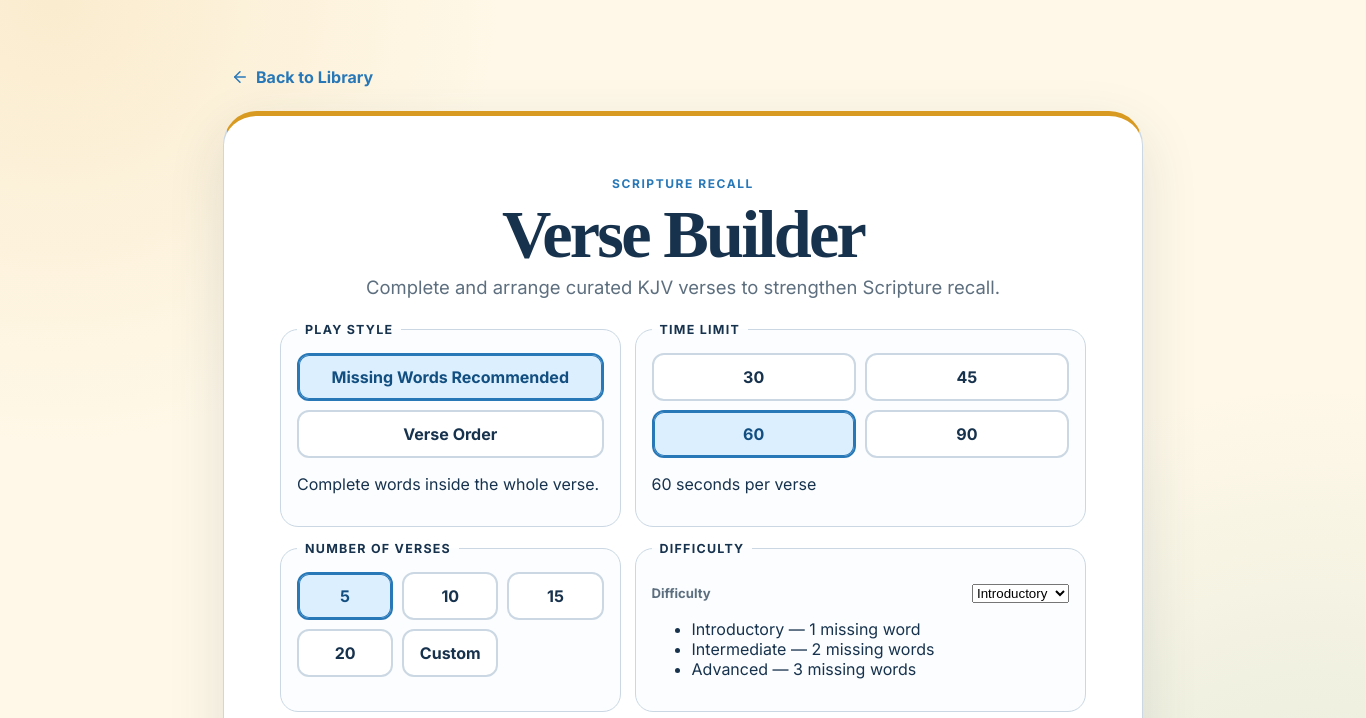
Scenario: Verse Builder Quick Play › switches to Verse Order without corrupting style-specific difficulty
The width and height of the screenshot is (1366, 718).
Click the button "Verse Order": point(450, 434) [297,410,604,458]
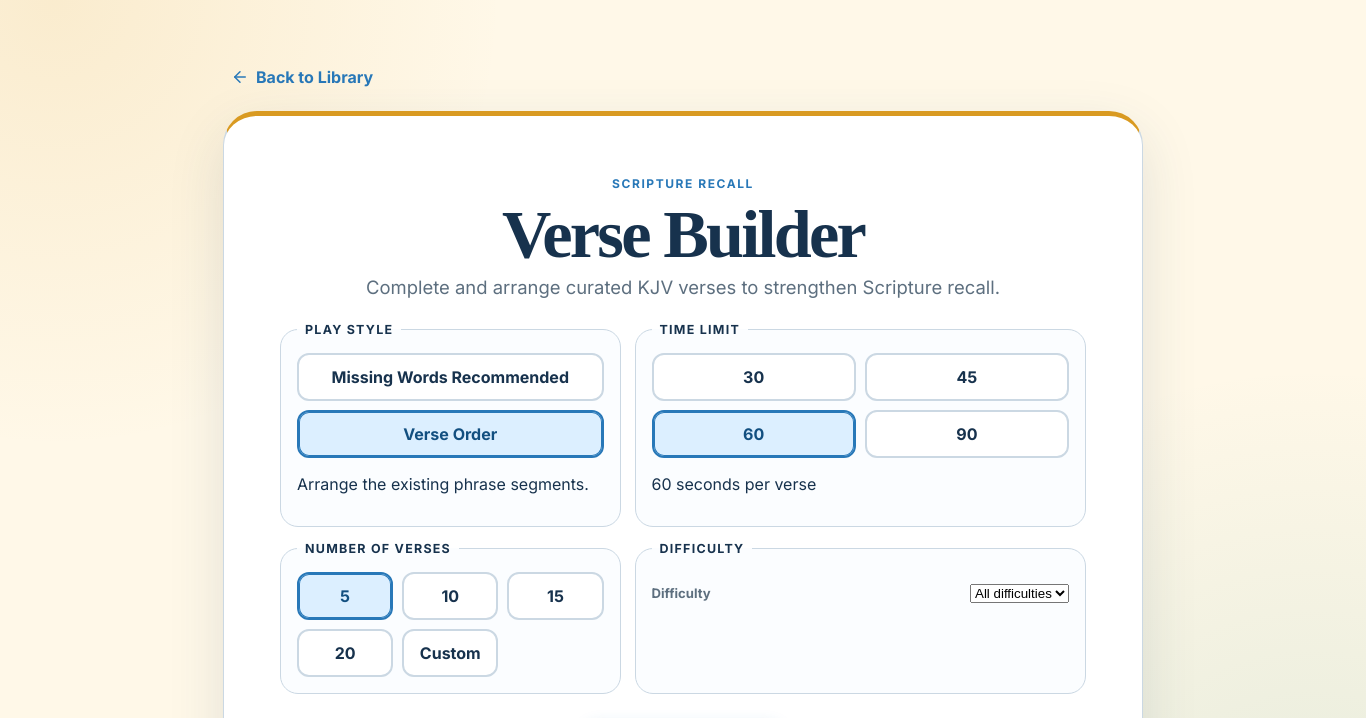
Now the dropdown labelled "Difficulty" shows "All difficulties", box [970,584,1069,603]
Click the button "Missing Words Recommended": point(450, 377) [297,353,604,401]
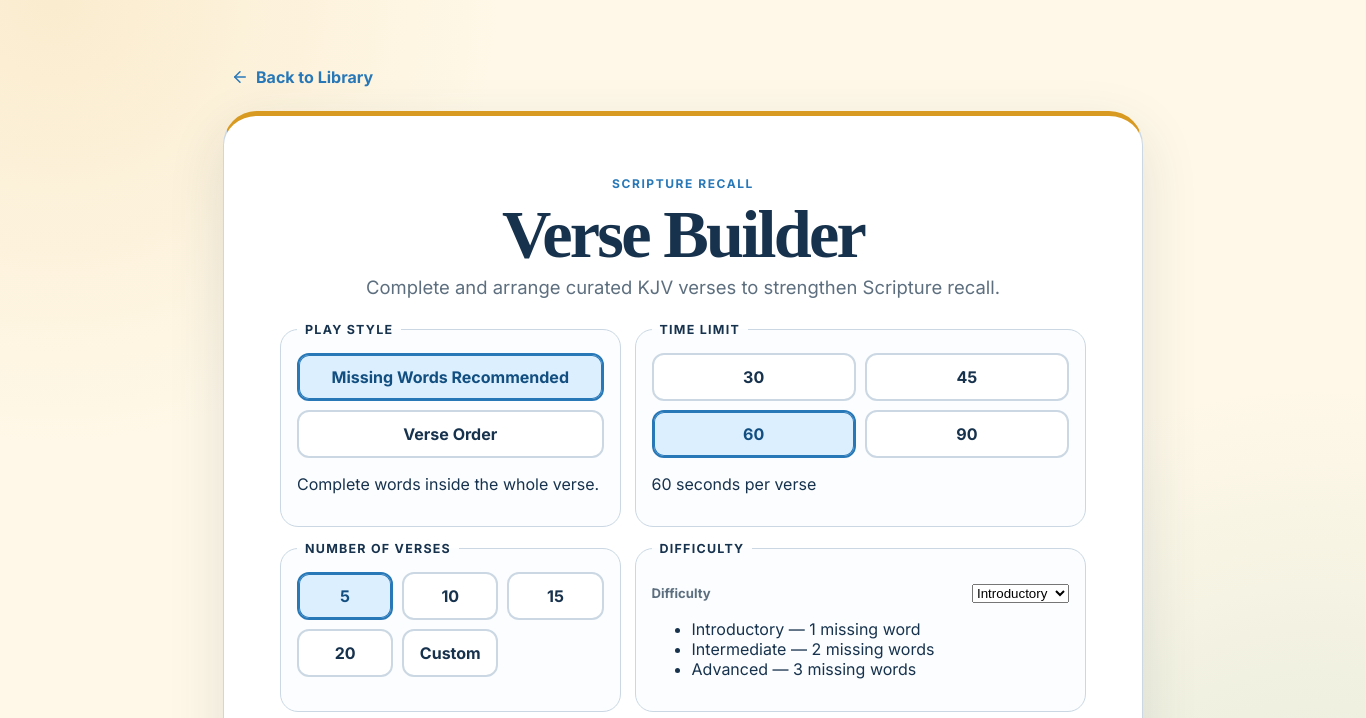
Now the dropdown labelled "Difficulty" shows "Introductory", box [972,584,1069,603]
